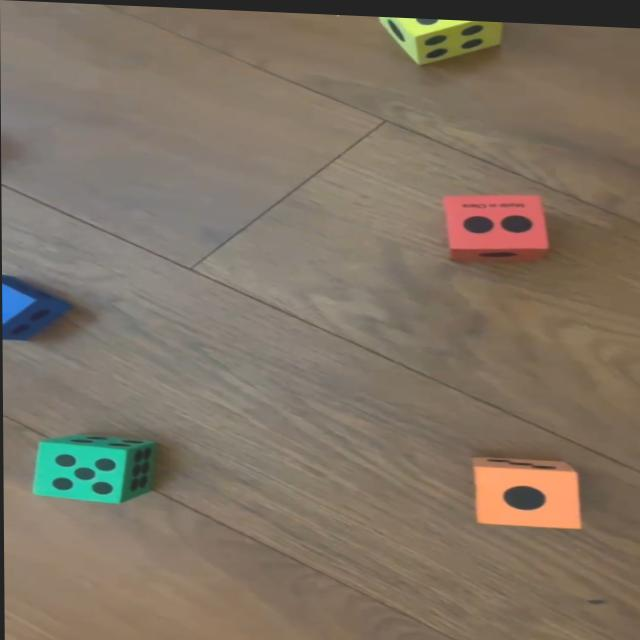blue_block: (2, 275, 65, 341)
red_block: (443, 187, 549, 258)
